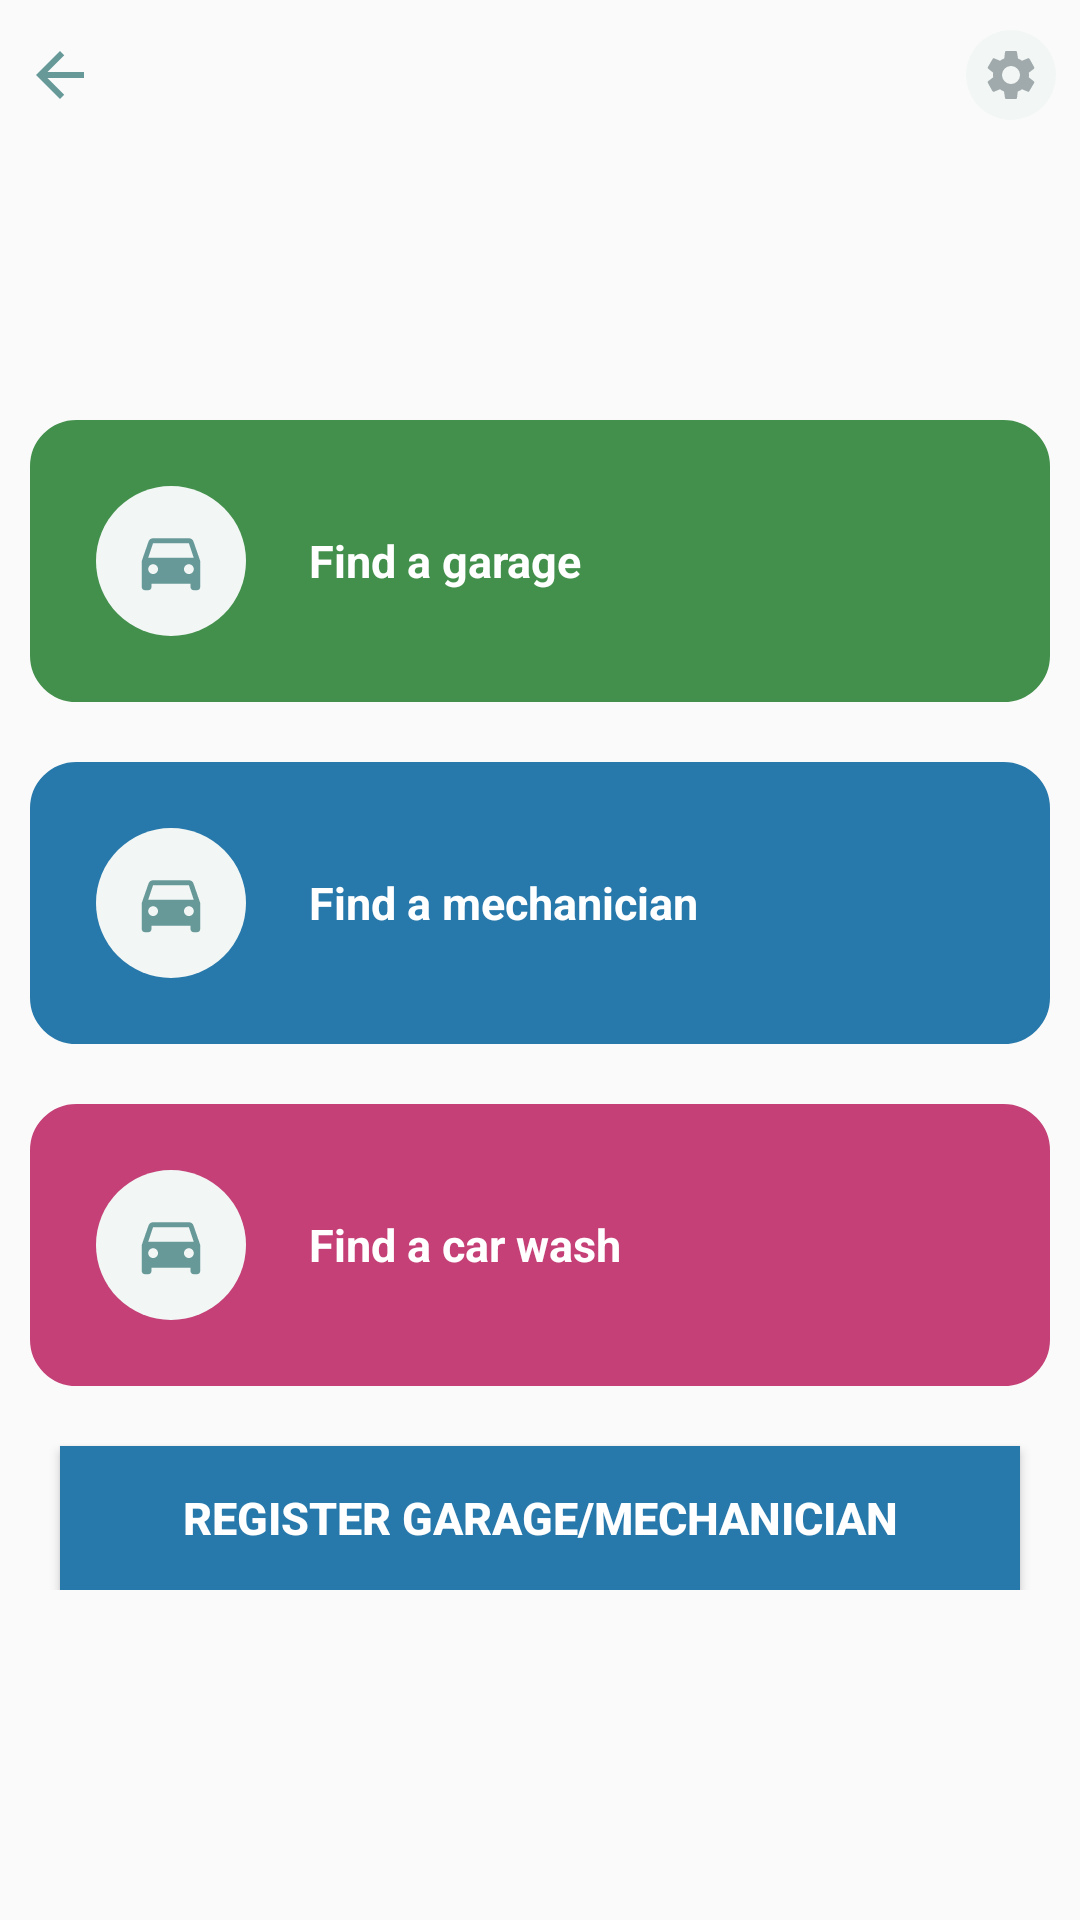

Screen size 1080w x 1920h. Icon name, then its center in pixels as (x,y):
directions car: (171,561), (171,903), (171,1245)
settings: (1011,75)
